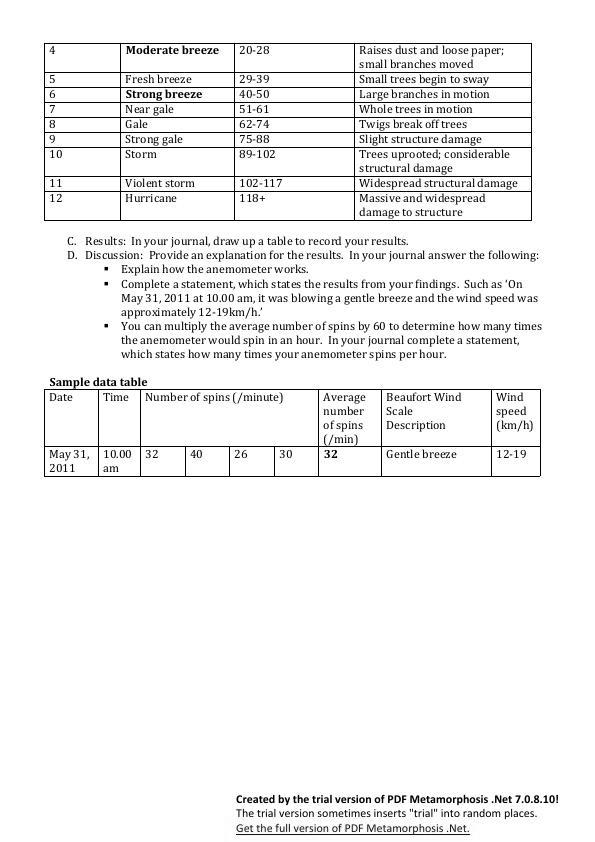table: (39, 40, 538, 226), (42, 386, 547, 480)
text: (63, 234, 554, 362), (229, 786, 565, 837), (47, 374, 148, 388)
